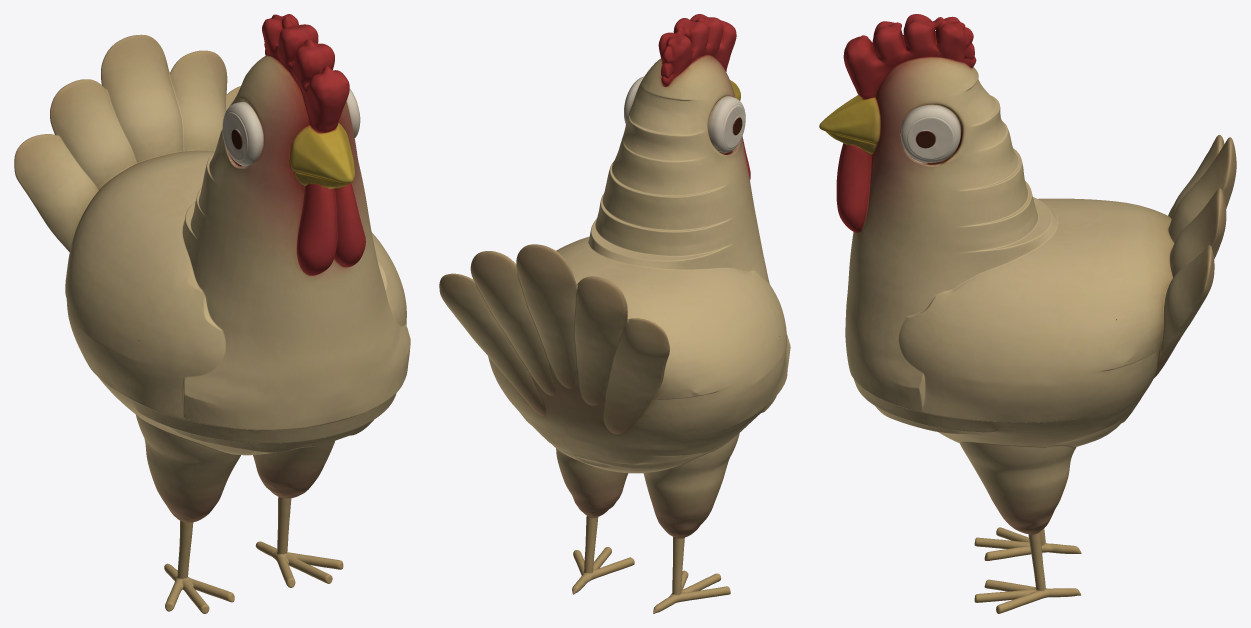
The model's file is cartoon_chicken.glb.
3 renders of one model, left to right at view 1: azimuth 30°, elevation 25°; view 2: azimuth 150°, elevation 25°; view 3: azimuth 270°, elevation 25°, orthographic. The views are drawn at different scales.
Parts seen in each view (by area): view 1: tripo_node_d2e86f12-4ee7-407c-85d1-b5db3bc058dd; view 2: tripo_node_d2e86f12-4ee7-407c-85d1-b5db3bc058dd; view 3: tripo_node_d2e86f12-4ee7-407c-85d1-b5db3bc058dd.
Part boxes in pixels (x1=…): tripo_node_d2e86f12-4ee7-407c-85d1-b5db3bc058dd: x1=14, y1=14, x2=410, y2=613; tripo_node_d2e86f12-4ee7-407c-85d1-b5db3bc058dd: x1=439, y1=14, x2=790, y2=613; tripo_node_d2e86f12-4ee7-407c-85d1-b5db3bc058dd: x1=819, y1=14, x2=1236, y2=613.
Size of the model in its own units: 0.5025 by 1 by 0.6779.
Materials: 1 (1 with a texture image).
